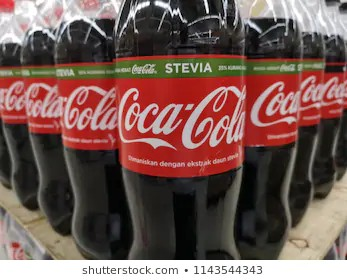coke-bottle-2l: (118, 1, 247, 260), (57, 1, 125, 259), (248, 1, 298, 262)
